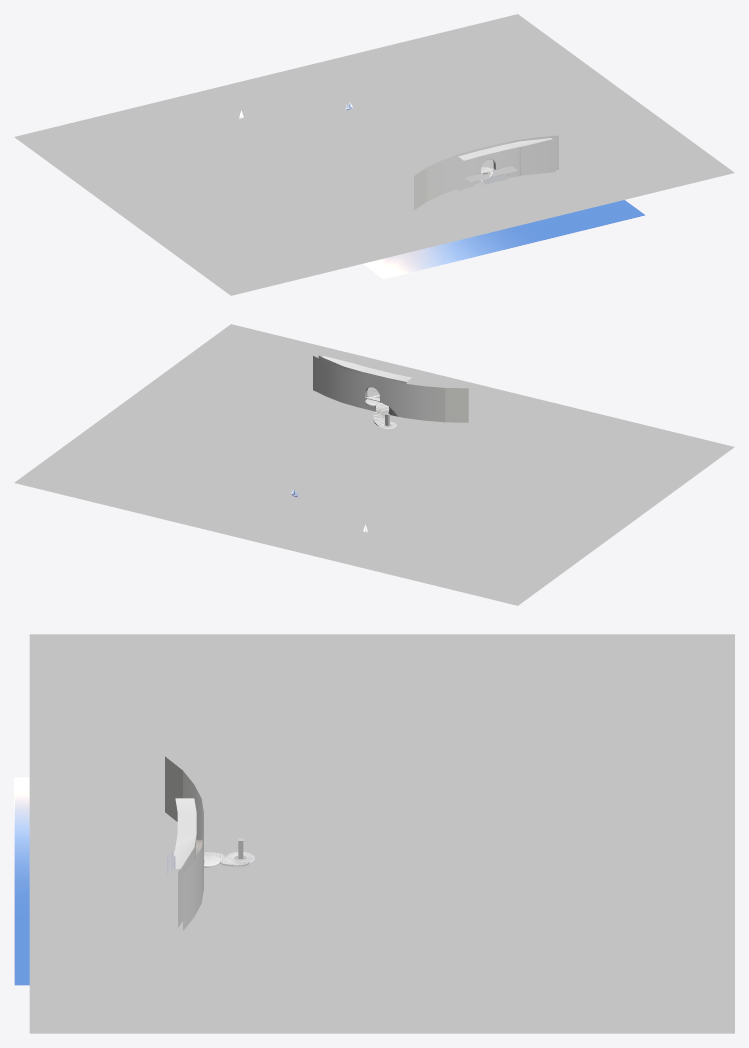
3 views of the same model, one above another, from view 1: azimuth 30°, elevation 25°; view 2: azimuth 150°, elevation 25°; view 3: azimuth 270°, elevation 25° (orthographic). The views are drawn at different scales.
Parts seen in each view (by area): view 1: water, Plane, arch.001, arch.002; view 2: water, arch.001; view 3: water, arch.001, Plane.
Boxes of the visible parts, x1,y1,x2,y2 form: water: (14, 14, 734, 295); Plane: (363, 200, 645, 279); arch.001: (414, 135, 558, 210); arch.002: (458, 137, 555, 190); water: (14, 324, 734, 605); arch.001: (313, 356, 468, 422); water: (29, 634, 734, 1033); arch.001: (165, 756, 203, 930); Plane: (14, 777, 29, 985).
Size of the model in its own units: 43.69 by 4.4 by 33.32.
Materials: 11 (8 with a texture image).
